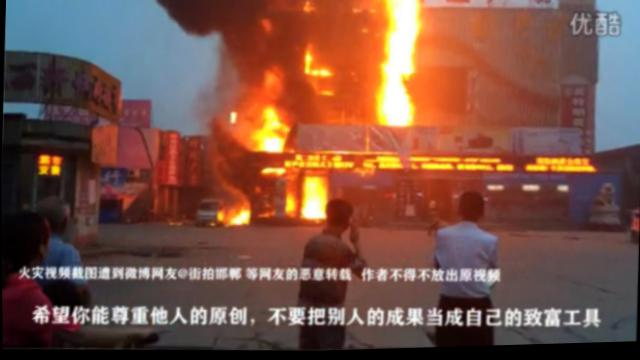fire: (378, 0, 419, 129), (236, 107, 287, 155), (300, 175, 328, 222), (256, 64, 281, 110), (225, 202, 251, 225), (284, 181, 299, 215), (309, 68, 333, 79), (303, 46, 311, 76)
